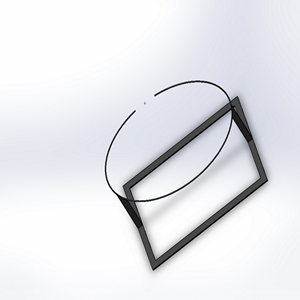circle: (102, 77, 268, 270)
